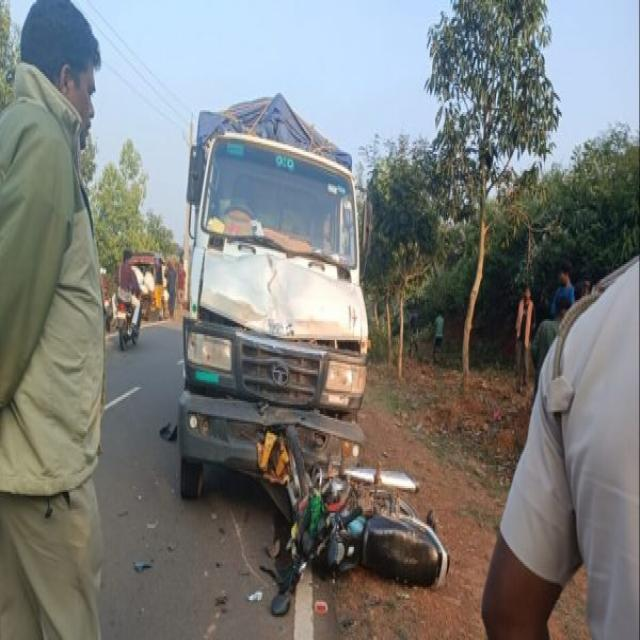accident: (178, 93, 368, 509), (270, 467, 449, 613)
